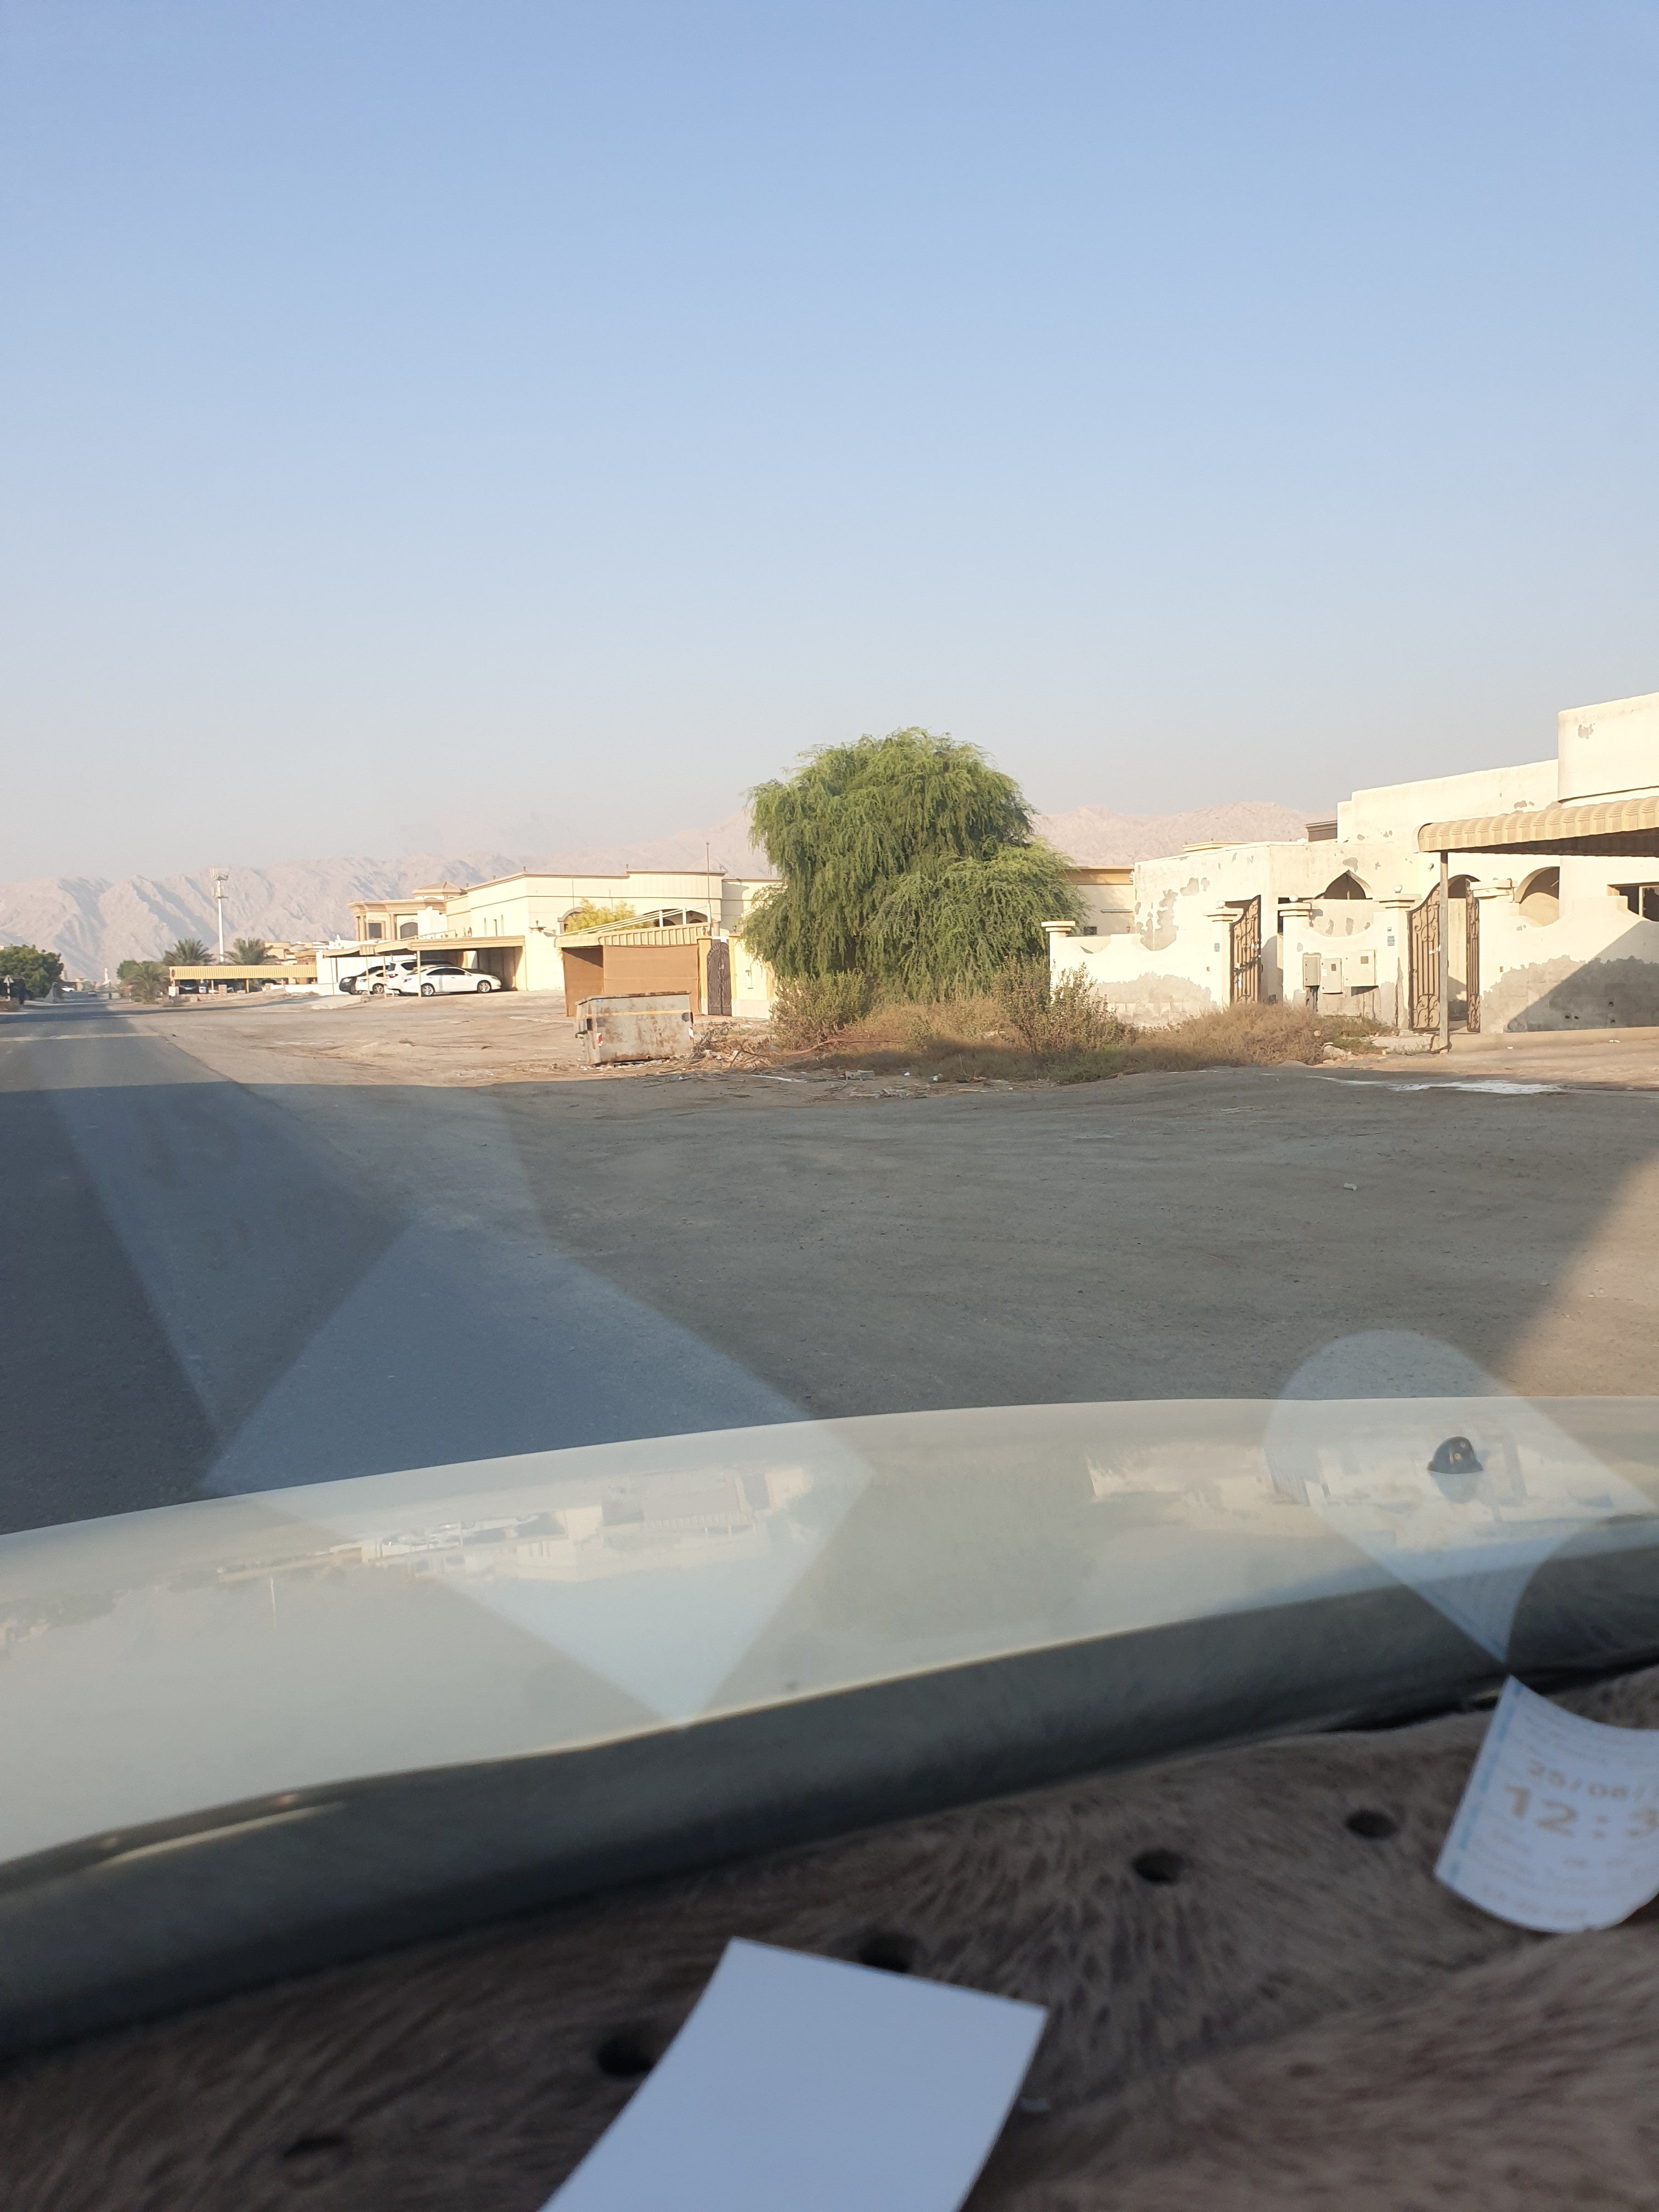fallen_trees: (784, 1069, 943, 1106), (694, 1043, 817, 1080), (627, 1064, 737, 1094), (610, 1073, 702, 1092)
